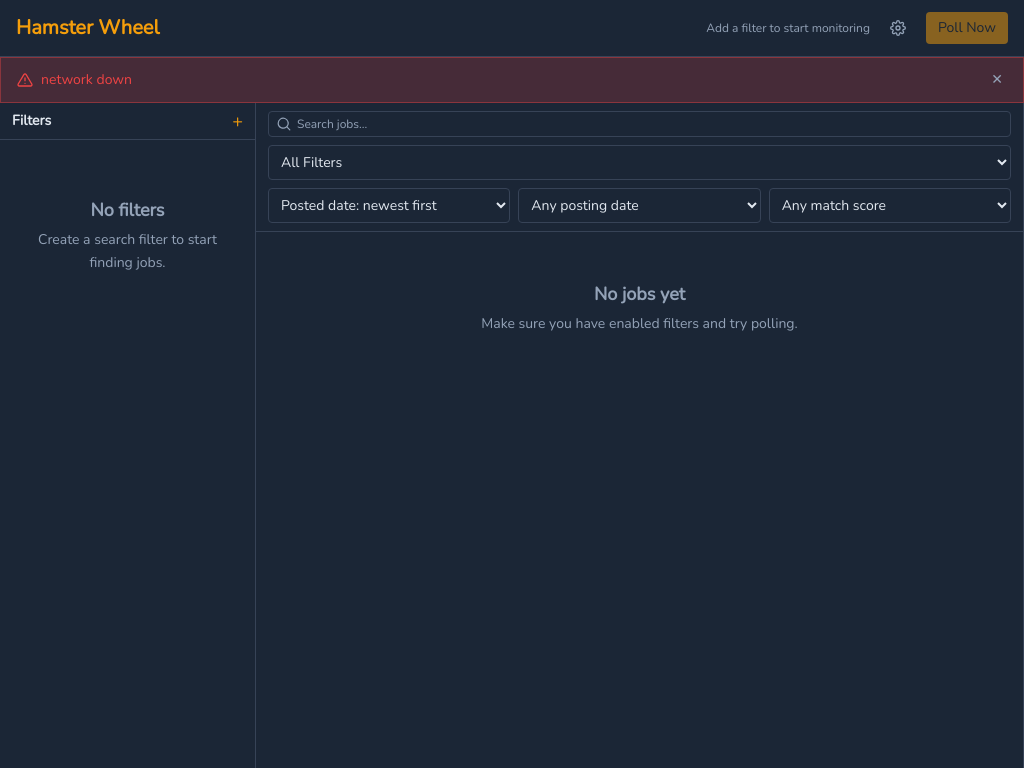
Test case: App › dismisses hook errors from the banner
Expected: the text "network down" is shown, [17,69,132,91]
Click the button named "dismiss": [997, 80] box [987,66,1007,94]
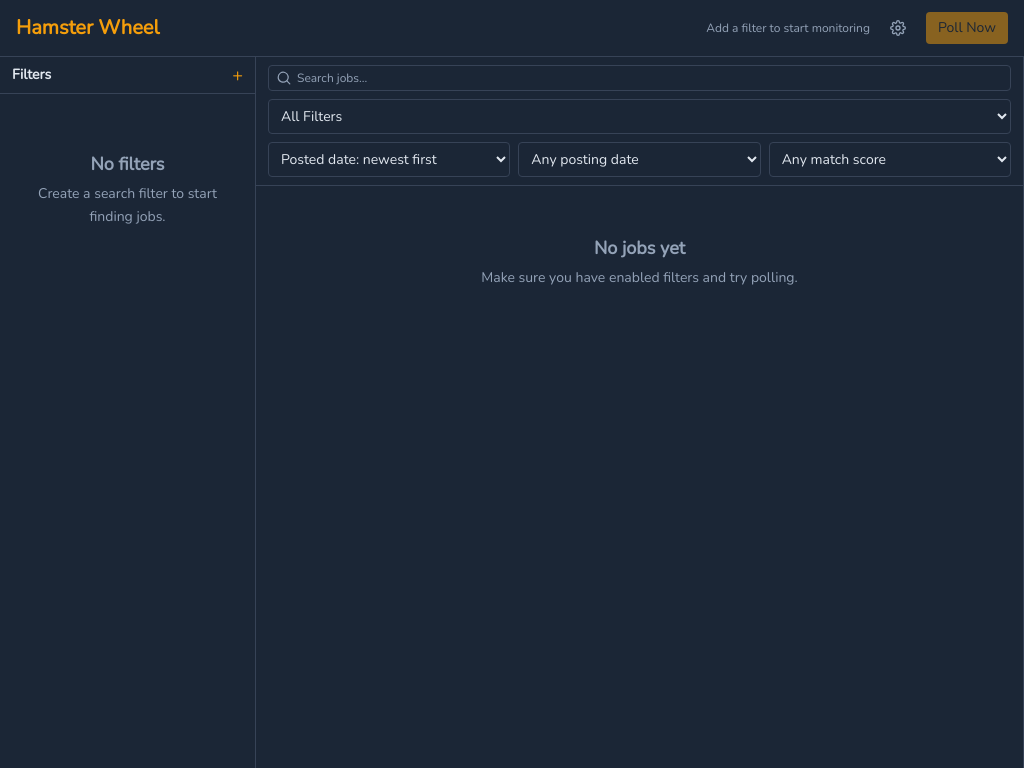
Result: the text "network down" is gone
